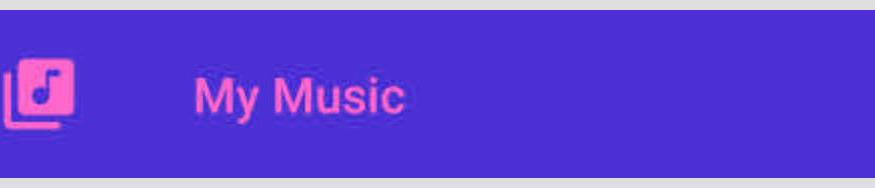CheckedTextView: (1, 1, 874, 187)
